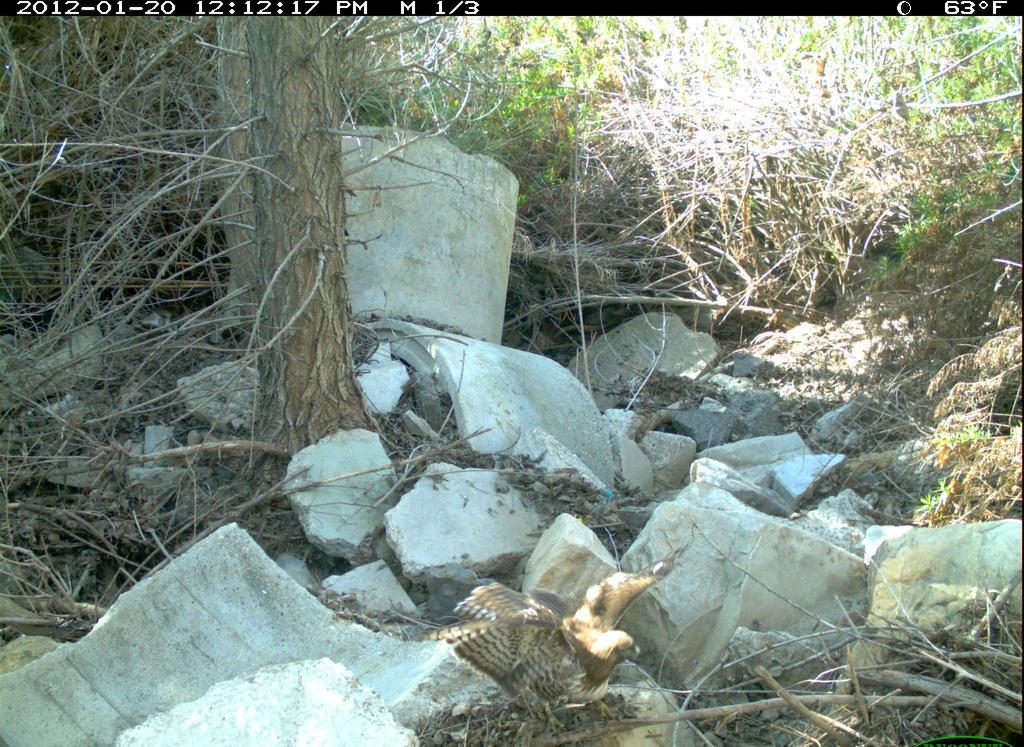bird: (442, 550, 681, 731)
